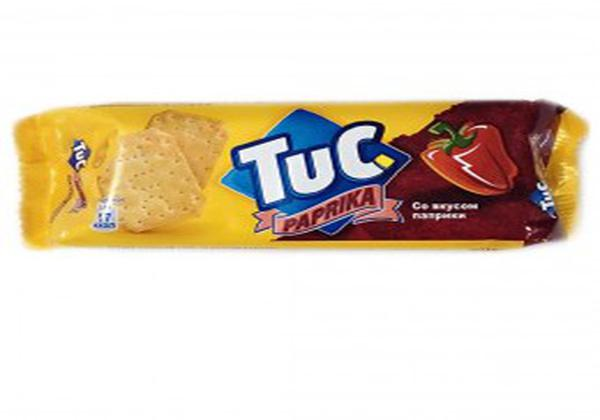crackers tuc: (52, 106, 554, 253)
